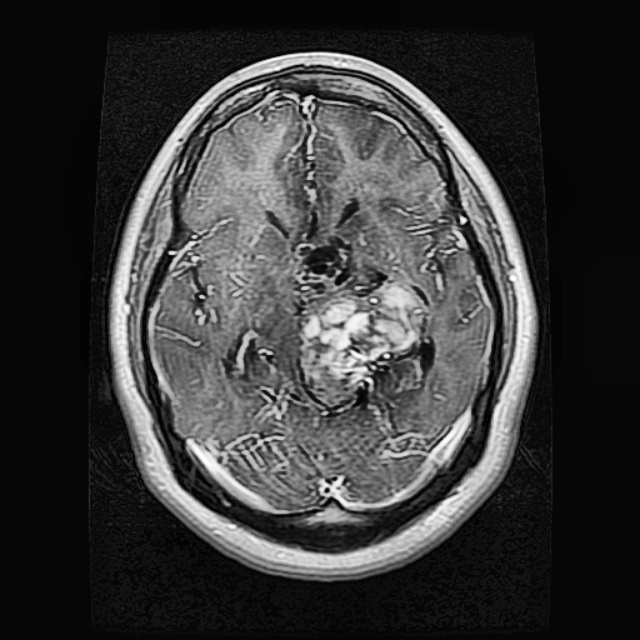Glioma: (295, 278, 427, 407)
